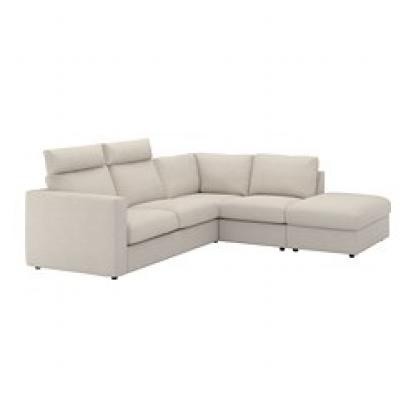Sofa: (17, 123, 394, 291)
